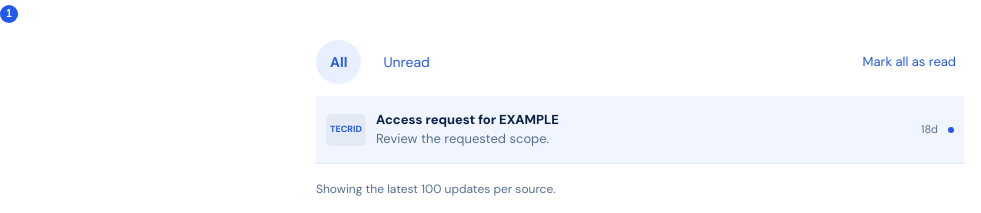
it: shows requests and updates personal unread state when the row is opened
Expected: the text "Access request for EXAMPLE" is shown, [376, 111, 559, 128]
Click the link with aria-label "EXAMPLE, Unread" at (346, 130), box [316, 96, 964, 164]
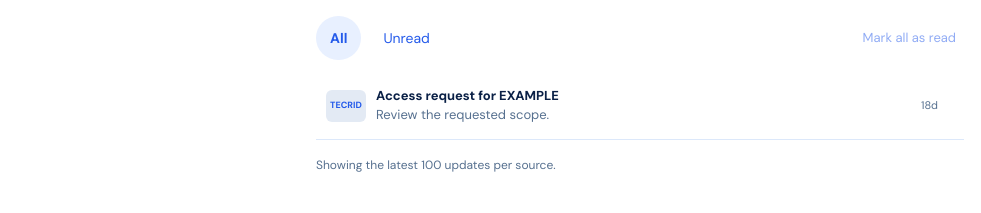
Now the link with aria-label "EXAMPLE, Read" is shown, box [316, 72, 964, 140]
Click the button "Unread" at (407, 38), box [369, 16, 444, 60]
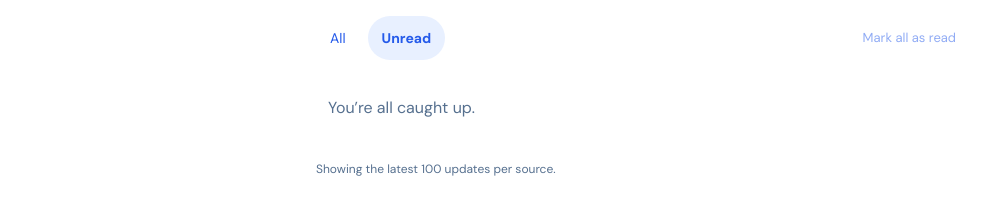
Now the text "You’re all caught up." is shown, box [328, 97, 475, 118]
